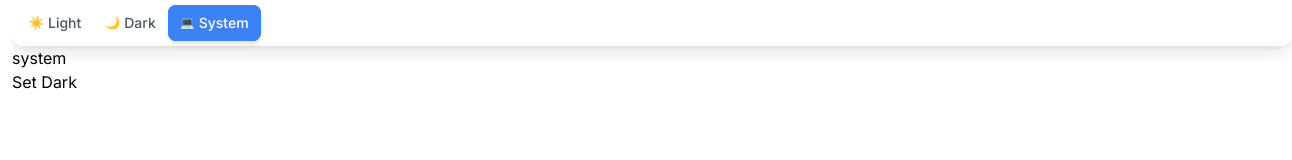
Test case: ThemeToggle › should change theme when clicked
Check: the text with test id "current-theme" reads "system", box top-left (12, 48), bottom-right (66, 68)
What coordinates should you click on to do the following:
click the text "Dark"
I would click on:
 (140, 23)
Its box is top-left (124, 13), bottom-right (156, 33).
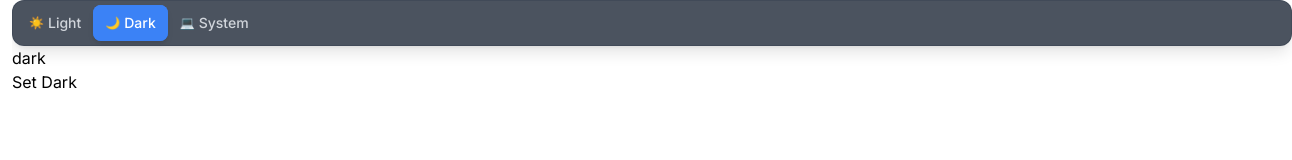
Check: the text with test id "current-theme" reads "dark", box top-left (12, 48), bottom-right (46, 68)
What coordinates should you click on to do the following:
click the text "Light"
I would click on:
 (65, 23)
Its box is top-left (48, 13), bottom-right (81, 33).
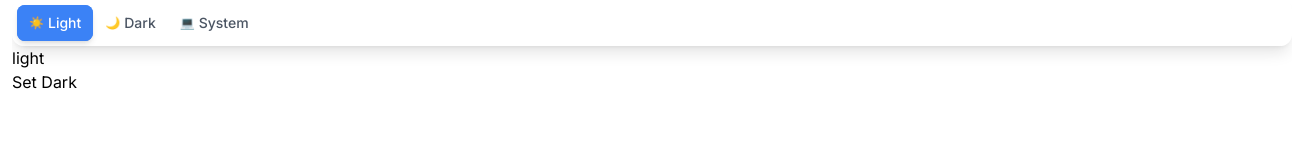
Check: the text with test id "current-theme" reads "light", box top-left (12, 48), bottom-right (44, 68)
